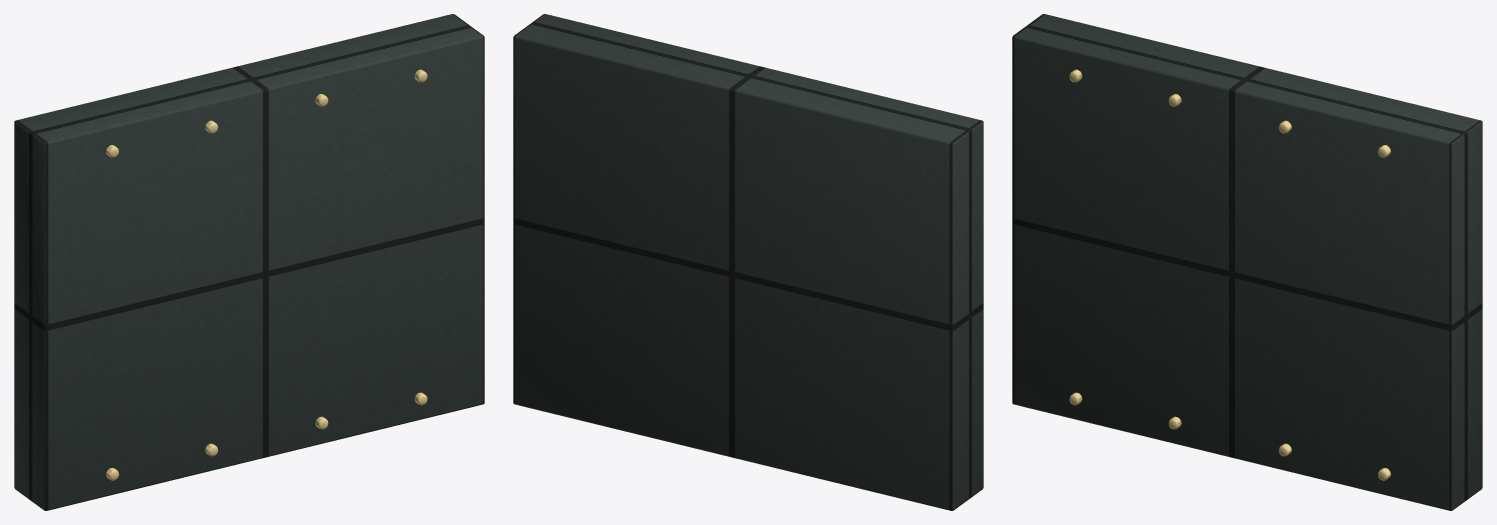
File: WK_WINDOW_PORTAL_A_01.glb
3 renders of one model, left to right at view 1: azimuth 30°, elevation 25°; view 2: azimuth 150°, elevation 25°; view 3: azimuth 330°, elevation 25°, orthographic.
Parts seen in each view (by area): view 1: WK_WINDOW_PORTAL_A_01; view 2: WK_WINDOW_PORTAL_A_01; view 3: WK_WINDOW_PORTAL_A_01.
Part boxes in pixels (x1,y1,x2,y2): WK_WINDOW_PORTAL_A_01: [14, 14, 484, 510]; WK_WINDOW_PORTAL_A_01: [513, 14, 983, 510]; WK_WINDOW_PORTAL_A_01: [1012, 14, 1482, 510].
Size of the model in its own units: 2 by 1.6 by 0.28.
3 materials, 1 textured.
